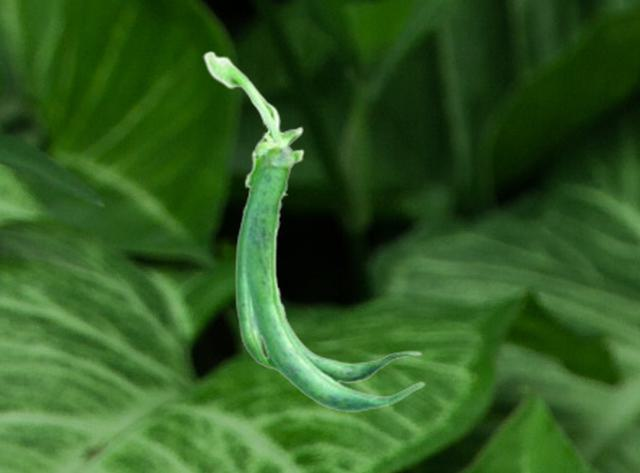french_bean: (202, 50, 424, 412)
